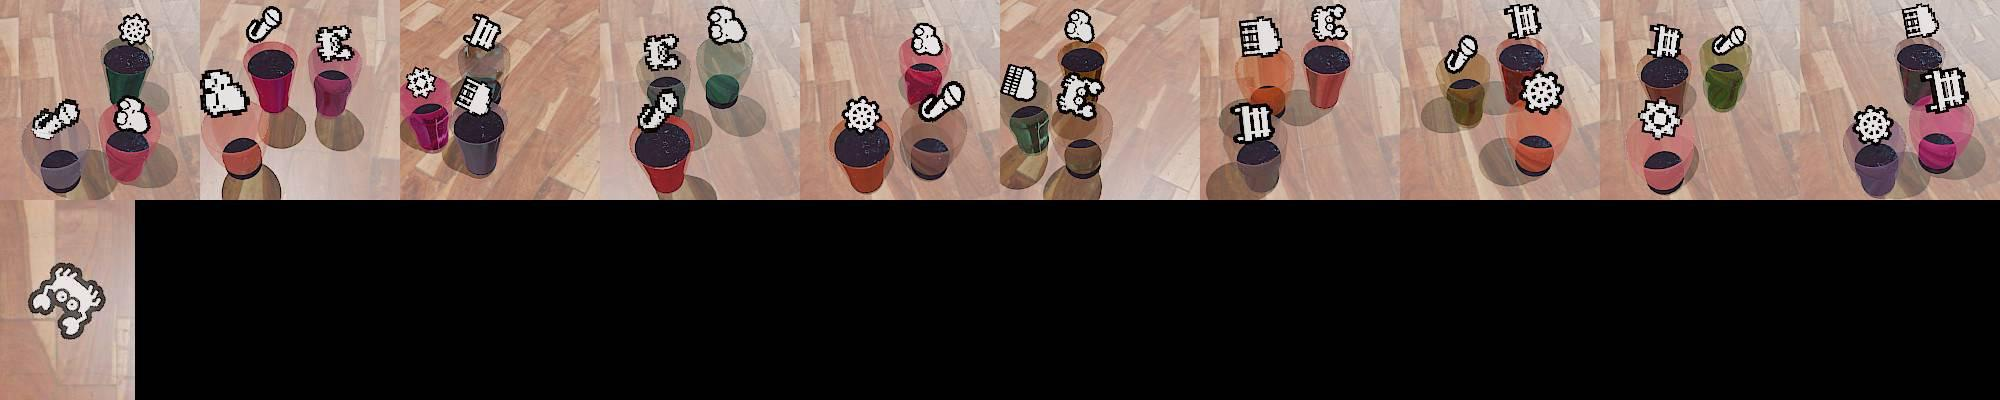icon: (27, 260, 106, 340), (199, 69, 250, 117), (29, 97, 80, 140), (1230, 99, 1277, 145), (1056, 73, 1101, 120), (1925, 66, 1969, 113), (1636, 96, 1684, 140), (1520, 70, 1565, 116), (917, 80, 964, 122), (1239, 15, 1283, 59), (1851, 103, 1895, 145), (455, 74, 496, 117), (638, 88, 679, 130), (705, 5, 746, 45), (842, 94, 881, 134), (1000, 62, 1038, 103), (464, 13, 503, 54), (315, 24, 353, 64), (1310, 4, 1348, 43), (1503, 3, 1542, 41), (643, 32, 680, 73), (1444, 33, 1478, 76), (245, 5, 283, 43), (114, 96, 151, 135), (1903, 3, 1941, 39), (1647, 23, 1682, 61), (404, 65, 439, 99), (116, 13, 152, 46), (909, 23, 943, 56), (1713, 24, 1746, 57), (1064, 8, 1094, 43)
